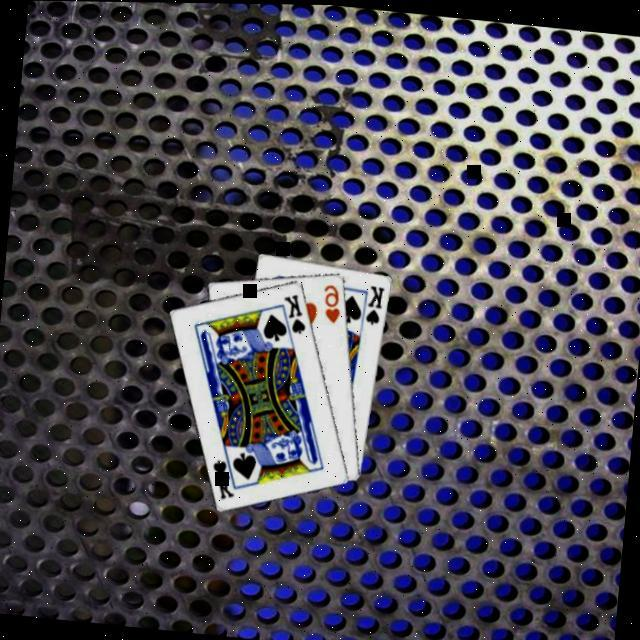6H: (318, 281, 346, 327)
KS: (207, 451, 242, 504), (278, 291, 312, 337), (363, 282, 388, 328)
